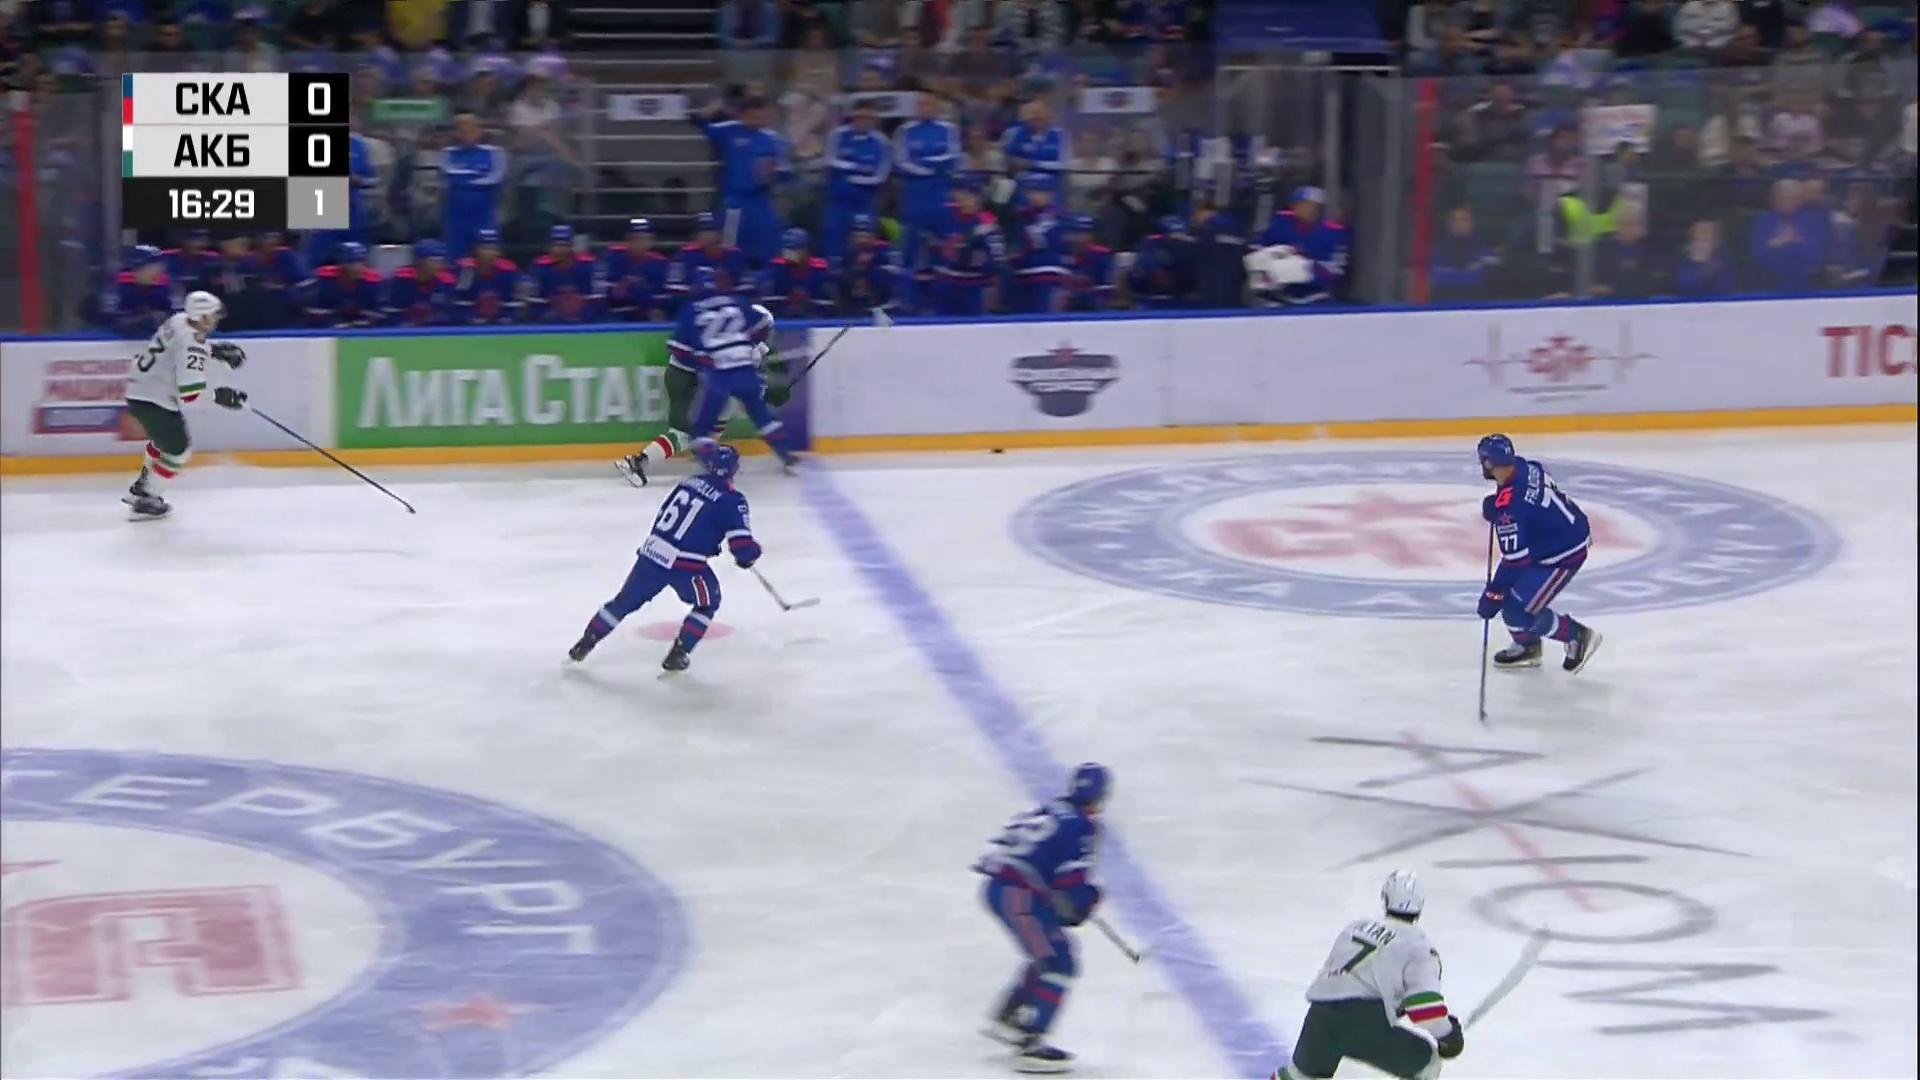ball: (990, 447, 1005, 454)
